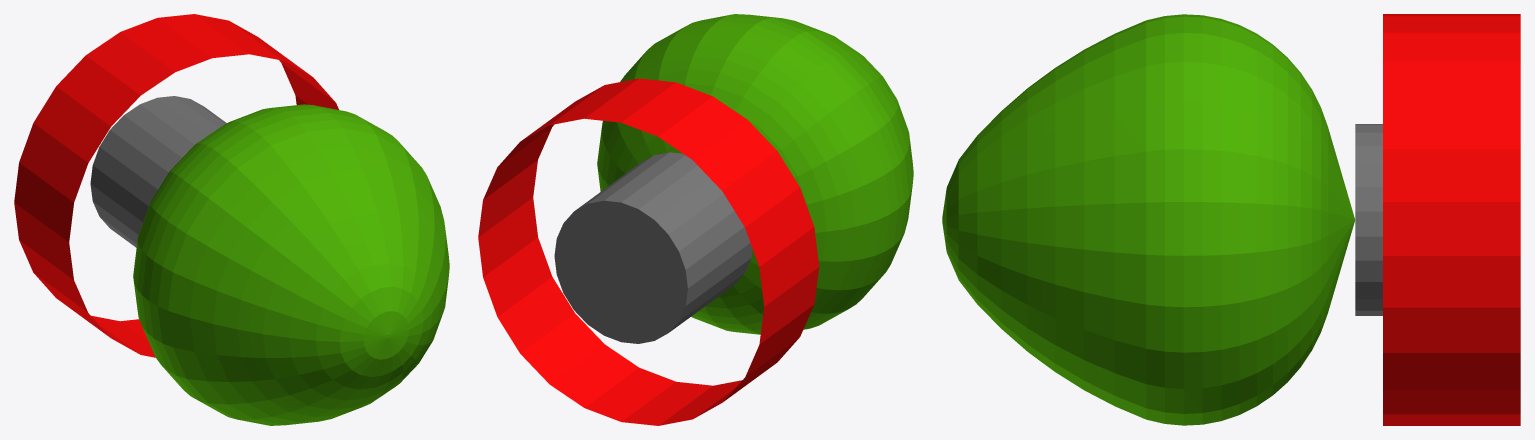
Rendered from HPE150cm.obj.
3 views of the same model, side by side, from view 1: azimuth 30°, elevation 25°; view 2: azimuth 150°, elevation 25°; view 3: azimuth 270°, elevation 25° (orthographic). The views are drawn at different scales.
Size of the model in its own units: 1.5 by 1.5 by 2.1.
